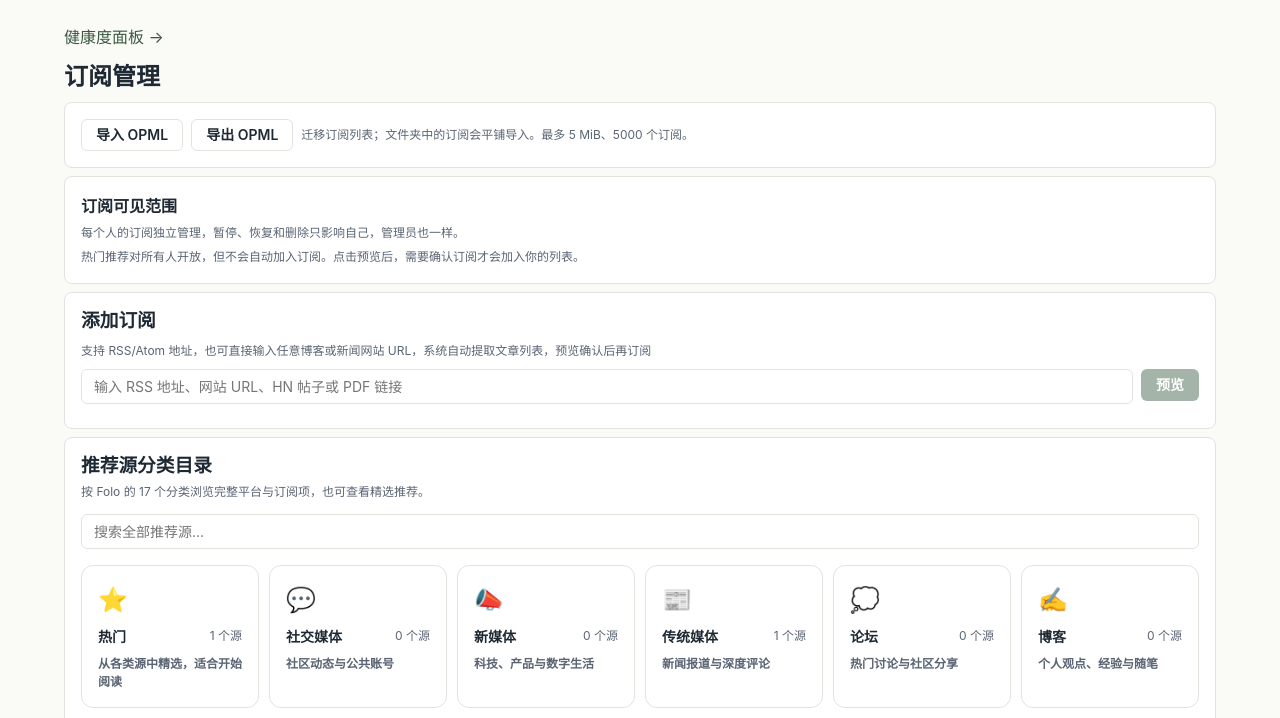
Test: loads public catalog and previews before subscribing
Click the button "📰 传统媒体 1 个源 新闻报道与深度评论": (734, 636) top-left (645, 565), bottom-right (823, 708)
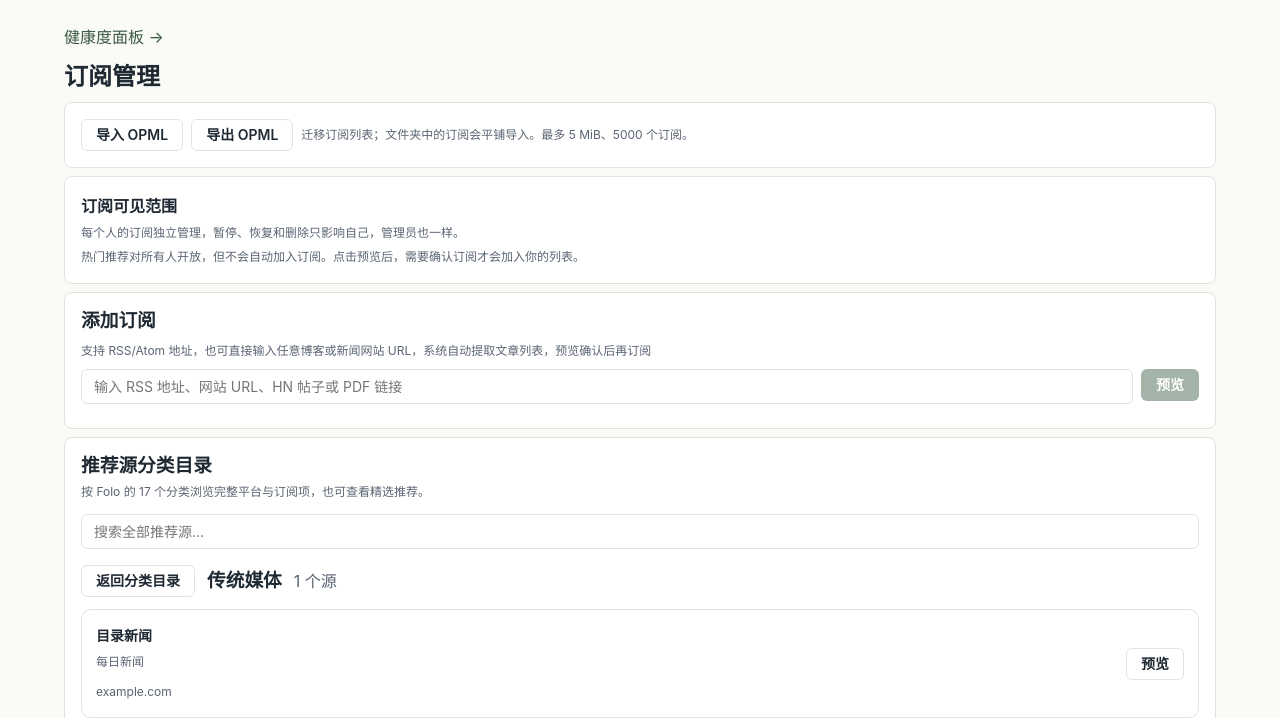
Click the button "预览" in the row of "每日新闻": (1155, 664) top-left (1126, 648), bottom-right (1184, 680)
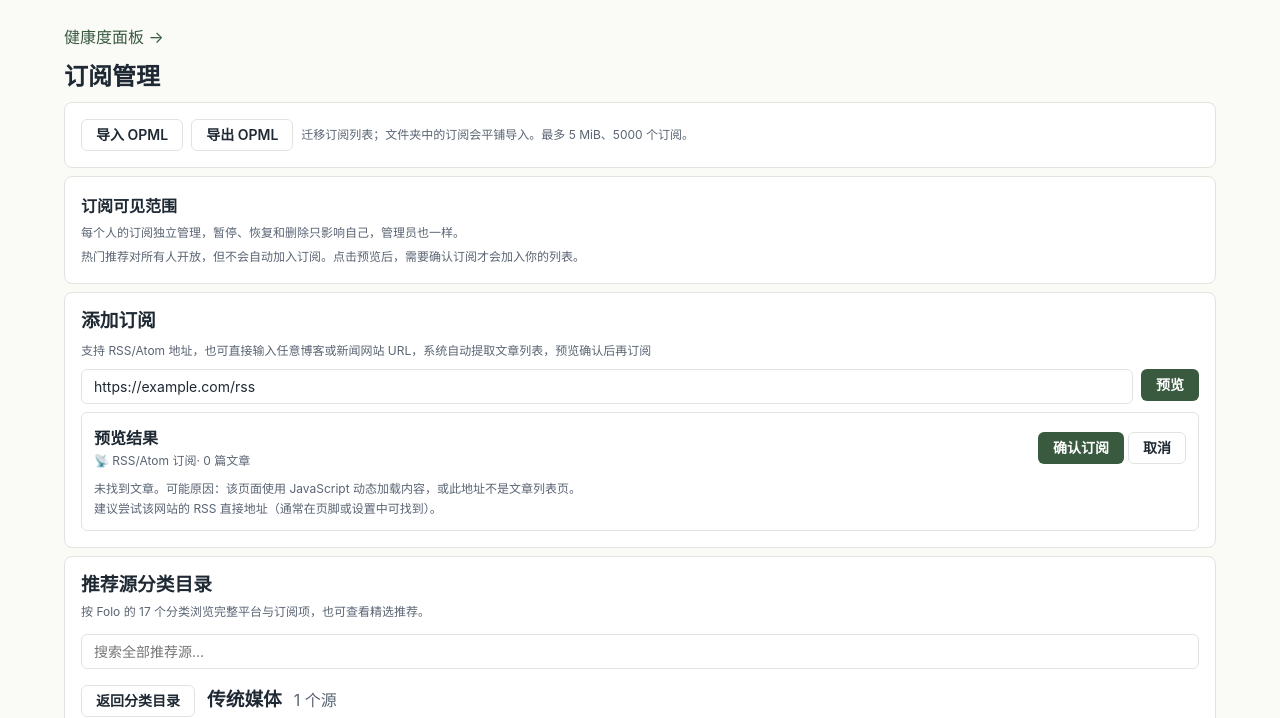
Now the text "预览结果" is shown, box top-left (94, 428), bottom-right (158, 448)
